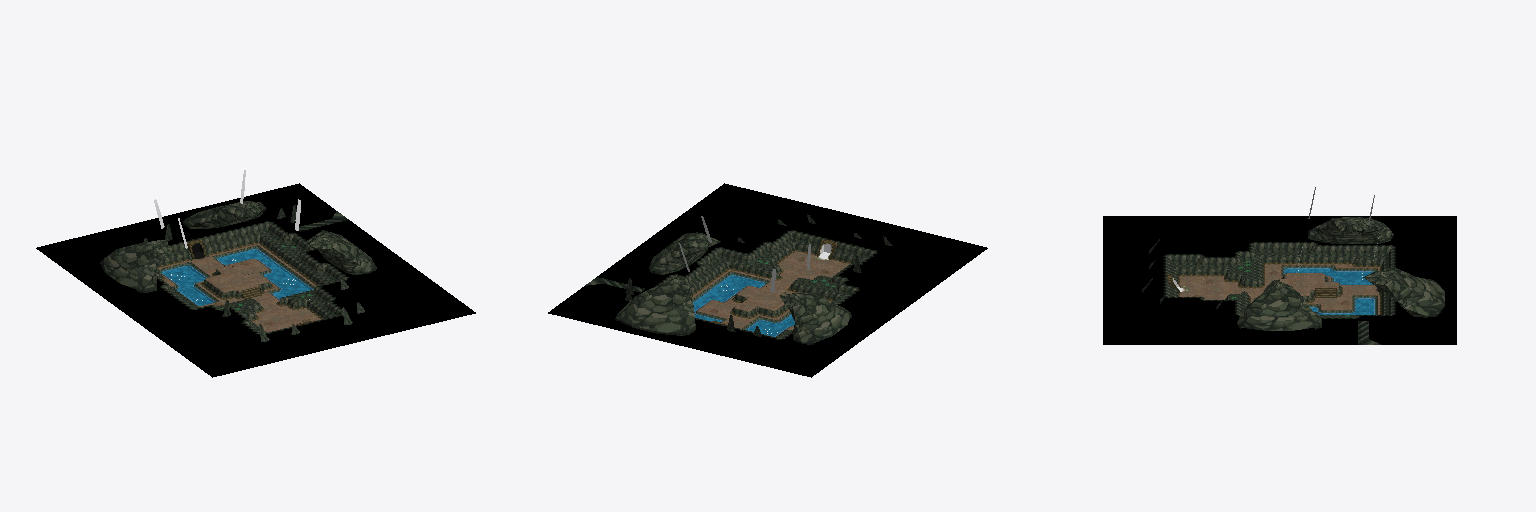
3 views of the same model, side by side, from view 1: azimuth 30°, elevation 25°; view 2: azimuth 150°, elevation 25°; view 3: azimuth 270°, elevation 25° (orthographic).
Parts seen in each view (by area): view 1: polygon10, polygon20, polygon9, polygon14, polygon11, polygon15, polygon7, polygon8, polygon13, polygon17; view 2: polygon10, polygon20, polygon9, polygon14, polygon11, polygon7, polygon15, polygon8; view 3: polygon10, polygon20, polygon9, polygon14, polygon7, polygon11, polygon15, polygon8.
Part boxes in pixels (bbox=[...]): polygon10: bbox=[36, 183, 475, 377]; polygon20: bbox=[100, 201, 376, 292]; polygon9: bbox=[157, 224, 342, 327]; polygon14: bbox=[158, 243, 320, 332]; polygon11: bbox=[162, 249, 311, 305]; polygon15: bbox=[143, 205, 364, 341]; polygon7: bbox=[156, 222, 346, 333]; polygon8: bbox=[157, 241, 323, 321]; polygon13: bbox=[157, 244, 315, 306]; polygon17: bbox=[158, 245, 314, 301]; polygon10: bbox=[548, 183, 987, 377]; polygon20: bbox=[615, 232, 851, 344]; polygon9: bbox=[673, 233, 872, 315]; polygon14: bbox=[692, 251, 848, 329]; polygon11: bbox=[693, 275, 794, 336]; polygon7: bbox=[663, 231, 875, 338]; polygon15: bbox=[625, 214, 892, 337]; polygon8: bbox=[691, 249, 851, 318]; polygon10: bbox=[1103, 216, 1456, 344]; polygon20: bbox=[1237, 217, 1444, 330]; polygon9: bbox=[1169, 245, 1390, 317]; polygon14: bbox=[1180, 264, 1379, 314]; polygon7: bbox=[1166, 243, 1393, 317]; polygon11: bbox=[1285, 269, 1373, 314]; polygon15: bbox=[1142, 239, 1385, 317]; polygon8: bbox=[1176, 262, 1381, 314].
Size of the model in its own units: 10.75 by 3.16 by 12.5.
25 materials, 25 textured.